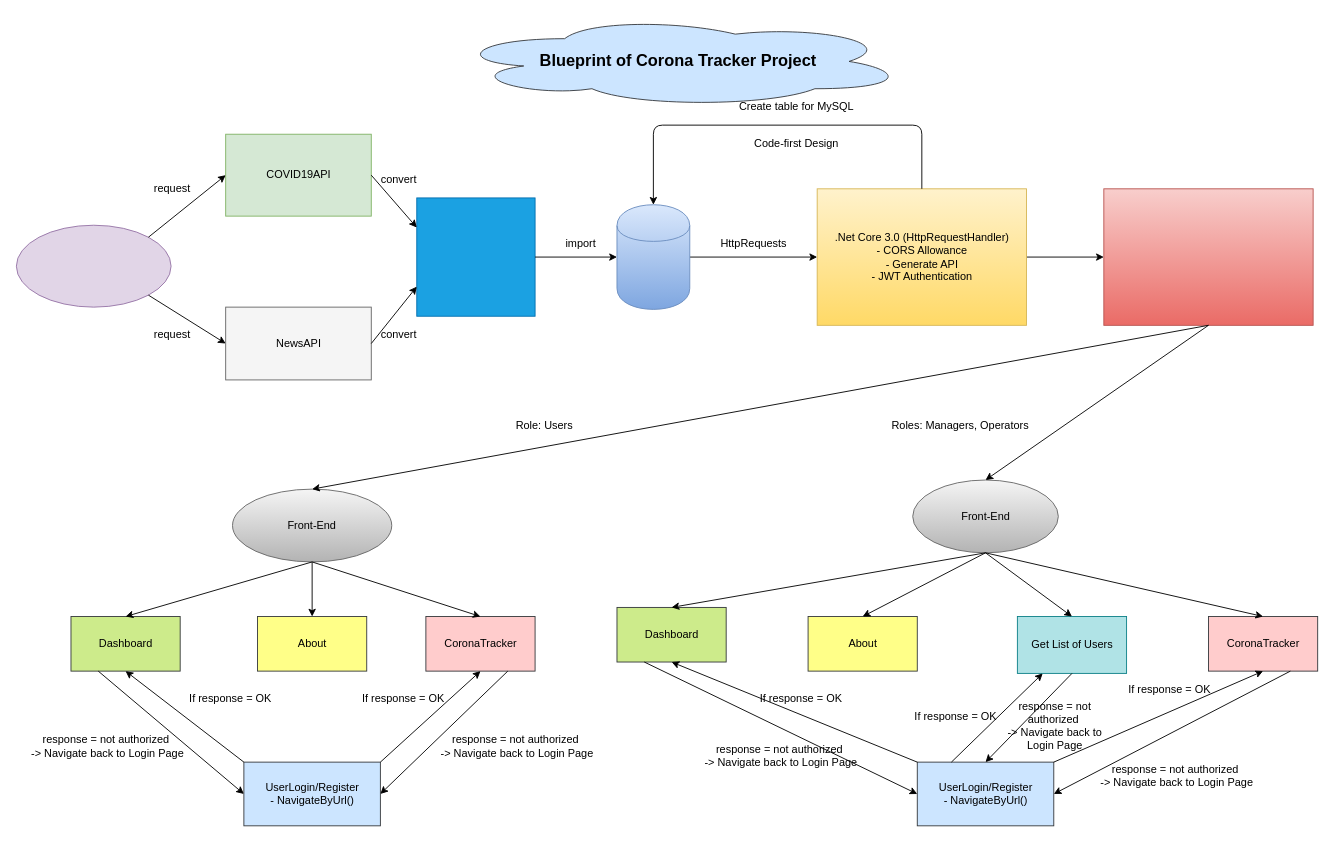
Image size: 1333x842. Some labels were removed from this diagram. The shapes that lost their labels are listed below. From the top down, each one's centre as x and y in pixels, then its label:
At (x=93, y=265): "3rd Party API".
At (x=475, y=256): "JSON then CSV using Python 3.8".
At (x=653, y=256): "MySQL".
At (x=1208, y=256): "Angular 9 - Fetch and Retrieve Data - Display to UI - Use CORS".
